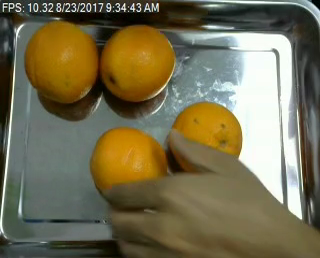Orange: (100, 23, 176, 102), (23, 21, 96, 103), (89, 125, 166, 198)
